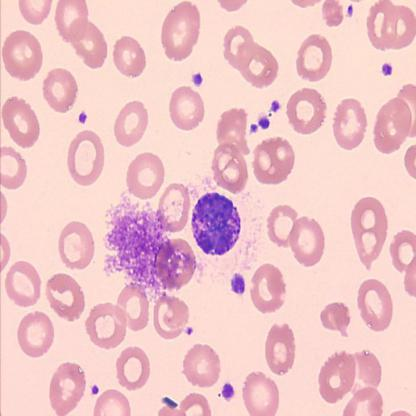Basophil: (190, 188, 242, 259)
